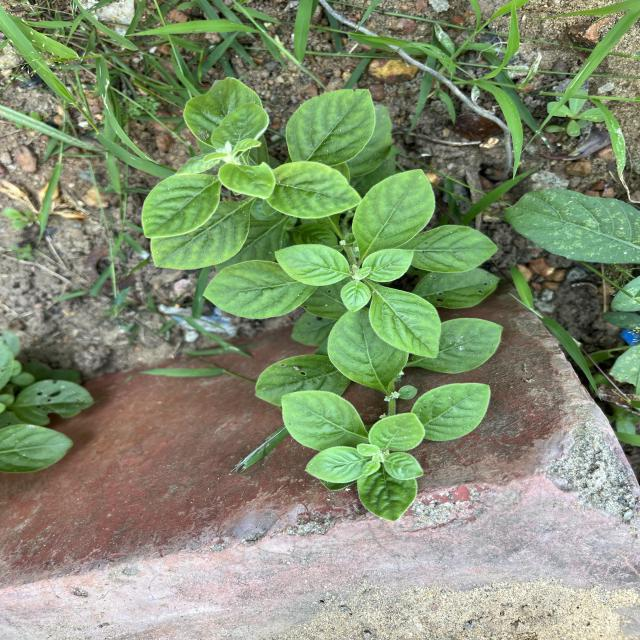Aerva lanata: (148, 198, 255, 272), (351, 167, 438, 257), (200, 258, 324, 320), (324, 307, 410, 395), (365, 284, 444, 360), (279, 389, 371, 453), (408, 381, 492, 443), (354, 468, 420, 522), (272, 242, 349, 287), (303, 444, 372, 484), (366, 411, 426, 452), (360, 248, 416, 284)
